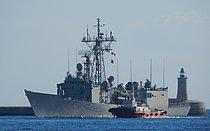MIL_Ship: (23, 16, 178, 120)
